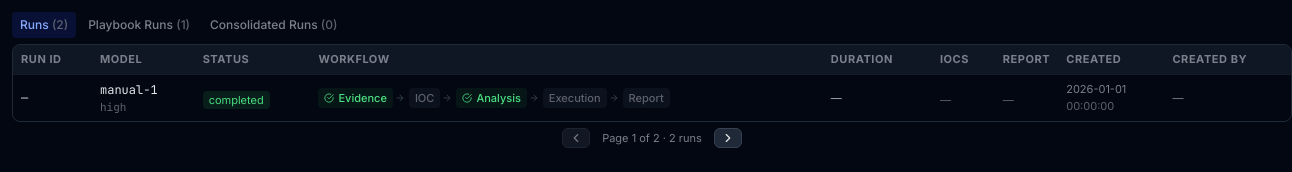
Test case: RunsStatusTable › pagination (issue-local-042 item 27) › resets to page 1 when switching sub-tabs
This screenshot has width=1292, height=172.
Expected: the text "Page 1 of 2 · 2 runs" is shown, [602,130,702,146]
Click the button named "Next runs page". click: (728, 138)
box: [714,128,742,148]
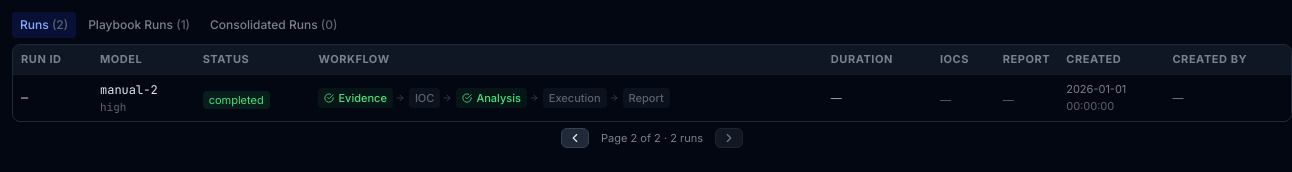
Result: the text "Page 2 of 2 · 2 runs" is shown at [601,130,703,146]
Click the button "Playbook Runs (1)". click: (139, 25)
box: [80,12,198,38]
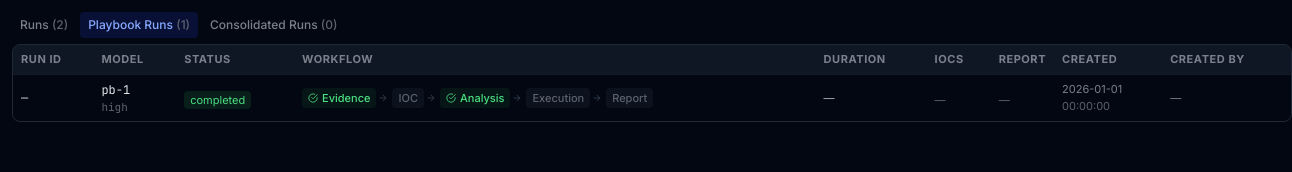
Result: the text "Page 2 of 2 · 2 runs" is gone
Result: the text "pb-1" is shown at [101,82,130,98]
